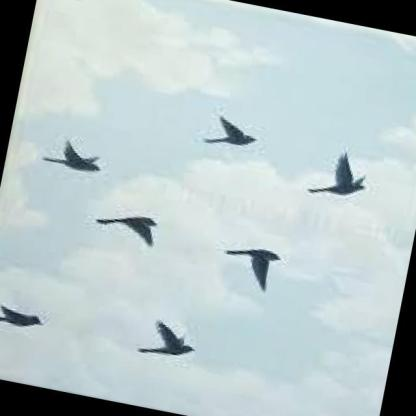bird: (304, 147, 375, 208), (215, 239, 287, 297), (89, 205, 166, 252), (134, 314, 201, 365), (39, 133, 109, 178), (199, 111, 264, 157), (0, 300, 47, 333)
